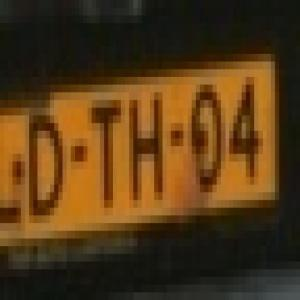Plate: (1, 35, 283, 262)
